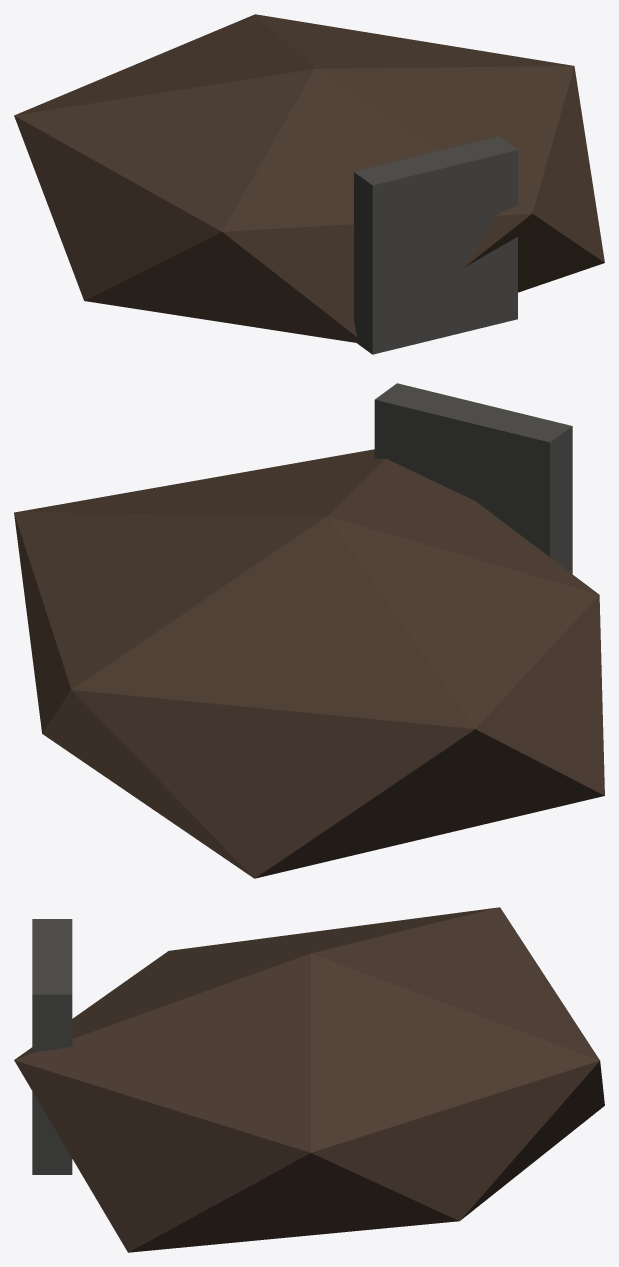
File: barrow.glb
The picture shows the model from 3 angles, top to bottom: view 1: azimuth 30°, elevation 25°; view 2: azimuth 150°, elevation 25°; view 3: azimuth 270°, elevation 25°; orthographic projection. The views are drawn at different scales.
Visible parts, largest first — view 1: barrow; view 2: barrow; view 3: barrow.
Part boxes in pixels (x1,y1,x2,y2): barrow: [14, 14, 604, 354]; barrow: [14, 383, 604, 878]; barrow: [14, 907, 604, 1252].
Bounding box in the file's own units: 3.03 × 1.37 × 2.97.
1 material, 1 textured.
